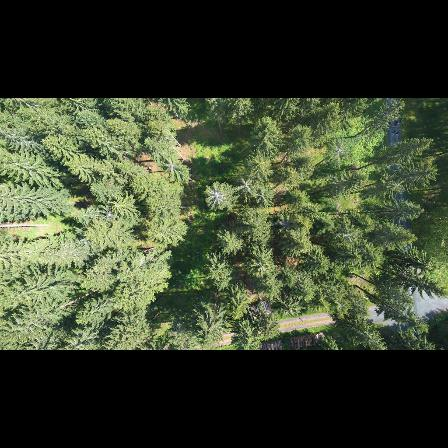Sick: (322, 138, 353, 165), (206, 181, 231, 211), (336, 223, 361, 250), (98, 202, 120, 227), (234, 172, 258, 194), (385, 175, 407, 199), (163, 152, 184, 177)
